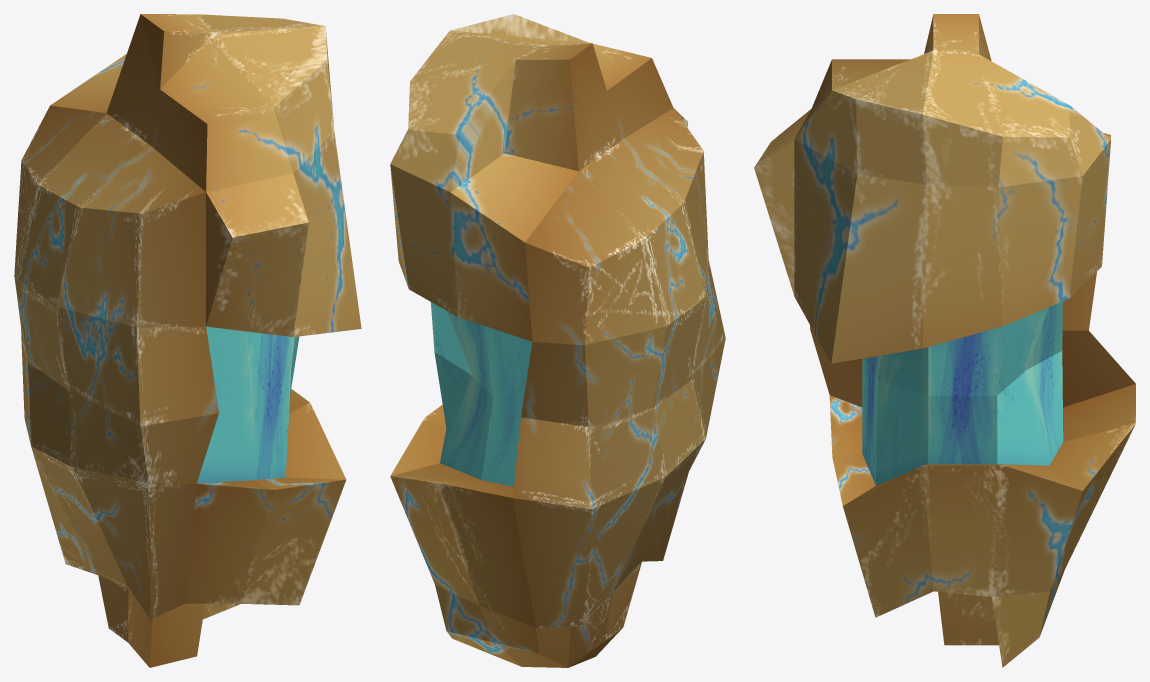
Rendered from Crystal001.fbx.
The picture shows the model from 3 angles, left to right: view 1: azimuth 30°, elevation 25°; view 2: azimuth 150°, elevation 25°; view 3: azimuth 270°, elevation 25°; orthographic projection. The views are drawn at different scales.
Parts seen in each view (by area): view 1: FlowingStone01; view 2: FlowingStone01; view 3: FlowingStone01.
Boxes of the visible parts, bbox=[...] form: FlowingStone01: bbox=[14, 14, 361, 667]; FlowingStone01: bbox=[390, 14, 725, 667]; FlowingStone01: bbox=[754, 14, 1135, 667].
Bounding box in the file's own units: 24.63 × 53.4 × 30.15.
